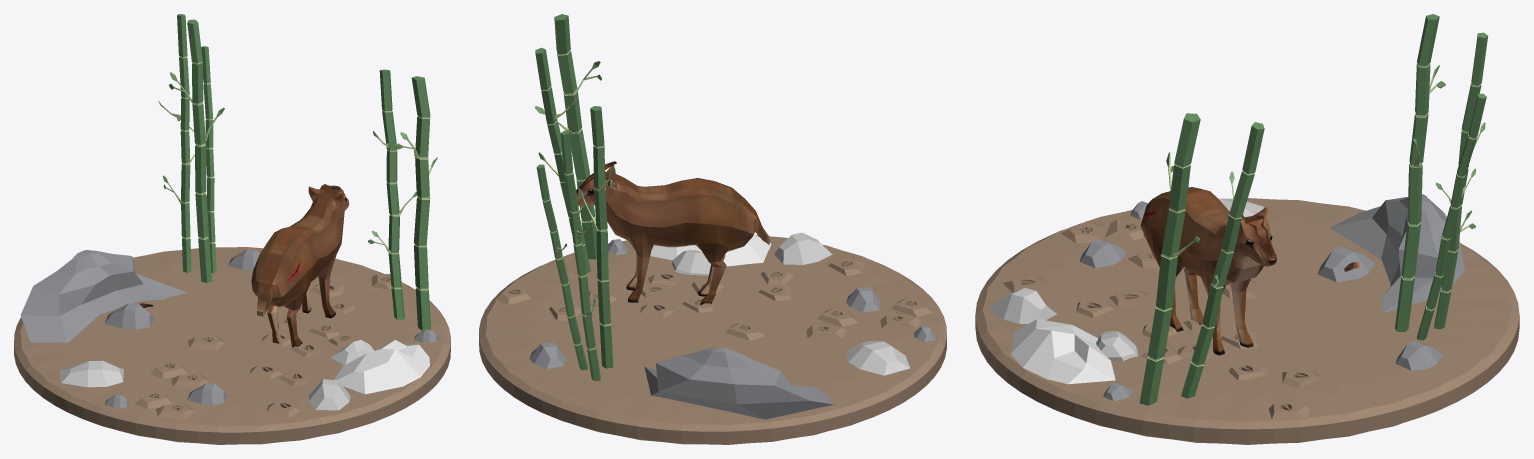
File: meta ar scene3.fbx
The picture shows the model from 3 angles, left to right: view 1: azimuth 30°, elevation 25°; view 2: azimuth 150°, elevation 25°; view 3: azimuth 270°, elevation 25°; orthographic projection. The views are drawn at different scales.
Visible parts, largest first — view 1: Cylinder.018, Object_1, Cube, Cylinder.001, Cube.004, Cylinder.008, Cylinder.004, Cylinder.011, Cylinder.015, Cube.005, Cube.001, Cube.009 (+9 smaller); view 2: Cylinder.018, Object_1, Cube, Cylinder.001, Cylinder.008, Cylinder.011, Cylinder.015, Cylinder.004, Cube.005, Cube.004, Cube.001, Cube.008 (+8 smaller); view 3: Cylinder.018, Object_1, Cube, Cylinder.001, Cube.004, Cylinder.008, Cylinder.004, Cylinder.015, Cylinder.011, Cube.001, Cube.009, Cube.007 (+6 smaller).
Part boxes in pixels (x1,y1,x2,y2): Cylinder.018: (14,247,450,444); Object_1: (251,184,349,347); Cube: (20,250,187,342); Cylinder.001: (411,76,430,330); Cube.004: (334,340,429,394); Cylinder.008: (187,19,212,282); Cylinder.004: (379,69,404,319); Cylinder.011: (177,14,191,272); Cylinder.015: (201,46,216,273); Cube.005: (59,360,123,387); Cube.001: (308,379,350,410); Cube.009: (104,303,154,329); Cylinder.018: (479,235,946,444); Object_1: (576,161,770,304); Cube: (644,347,834,419); Cylinder.001: (554,14,596,259); Cylinder.008: (590,106,613,368); Cylinder.011: (560,130,600,380); Cylinder.015: (536,164,587,370); Cylinder.004: (535,47,590,272); Cube.005: (846,341,909,375); Cube.004: (650,234,771,266); Cube.001: (774,232,832,264); Cube.008: (672,250,711,275); Cylinder.018: (975,198,1519,444); Object_1: (1140,187,1276,355); Cube: (1330,194,1464,313); Cylinder.001: (1139,113,1200,405); Cube.004: (1010,319,1115,384); Cylinder.008: (1395,14,1439,332); Cylinder.004: (1181,122,1264,398); Cylinder.015: (1417,93,1486,340); Cylinder.011: (1434,32,1487,329); Cube.001: (989,288,1056,323); Cube.009: (1318,246,1375,282); Cube.007: (1395,340,1442,370).
Bounding box in the file's own units: 640 × 441 × 640.
